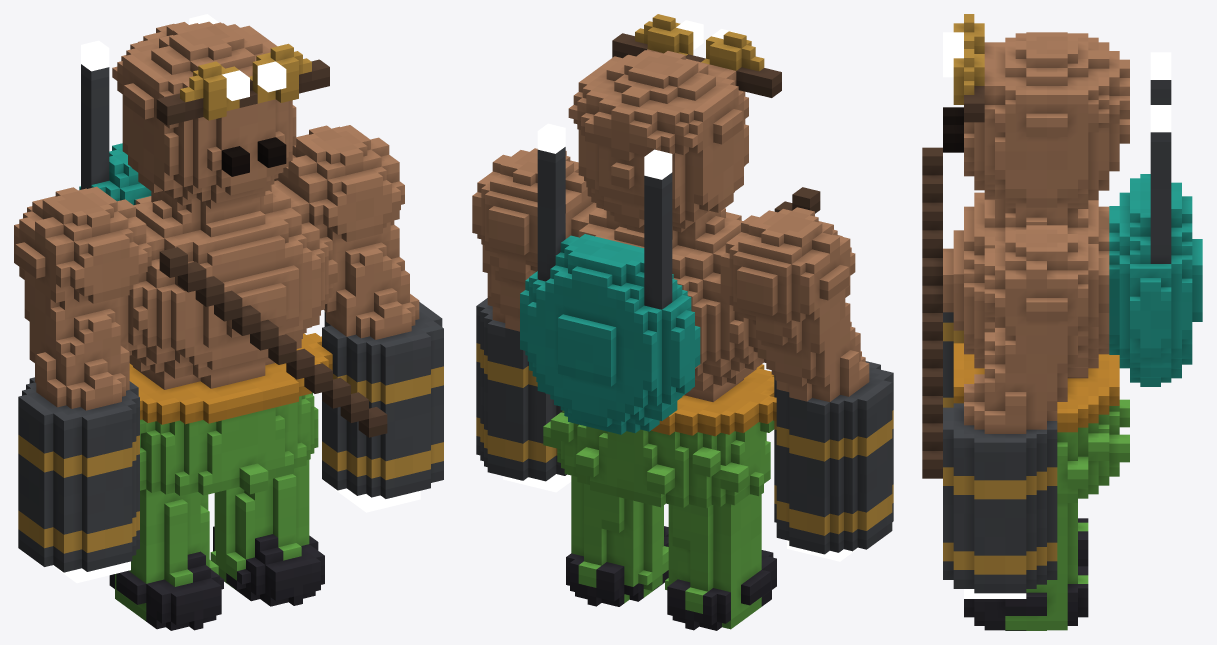
The model's file is u_artificier__moine.glb.
3 views of the same model, side by side, from view 1: azimuth 30°, elevation 25°; view 2: azimuth 150°, elevation 25°; view 3: azimuth 270°, elevation 25° (orthographic).
Visible parts, largest first — view 1: artificier_body, artificier_glow; view 2: artificier_body, artificier_glow; view 3: artificier_body, artificier_glow.
Part boxes in pixels (left/top/right/bottom): artificier_body: left=14, top=21, right=443, bottom=630; artificier_glow: left=52, top=14, right=420, bottom=583; artificier_body: left=472, top=14, right=893, bottom=630; artificier_glow: left=503, top=20, right=858, bottom=561; artificier_body: left=922, top=14, right=1202, bottom=630; artificier_glow: left=943, top=32, right=1171, bottom=598.
Bounding box in the file's own units: 1.1 × 1.5 × 0.675.
